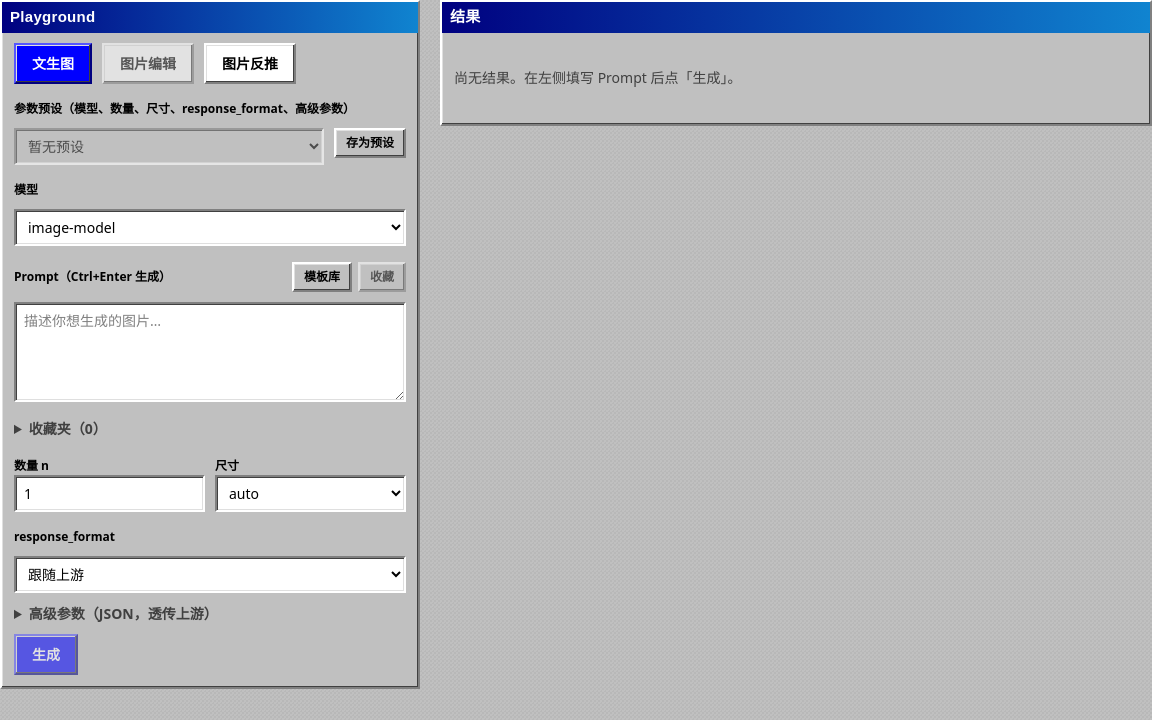
Test: Playground prompt reverse › switches to the reverse view with upload, style choice and a text result panel
Click the button "图片反推". click: [250, 63]
box: [204, 42, 296, 84]
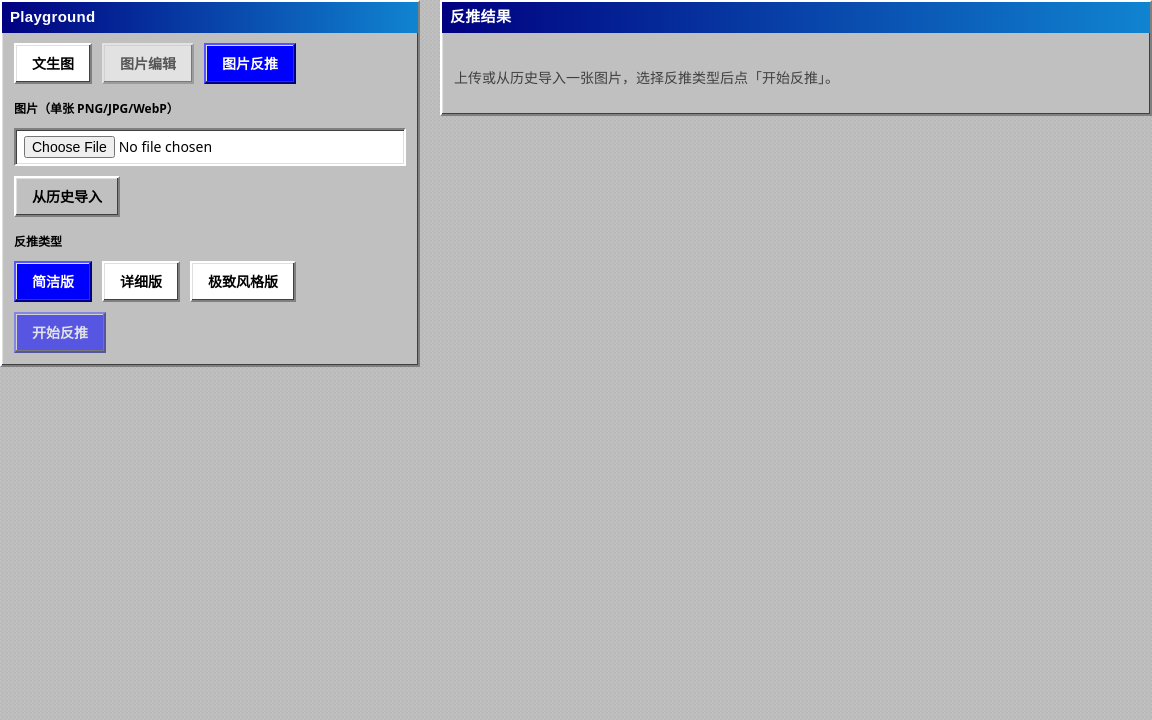
Now the label is gone
Now the file field labelled "图片（单张 PNG/JPG/WebP）" is shown, box [14, 128, 406, 166]
Now the text "从历史导入" is shown, box [14, 176, 120, 216]
